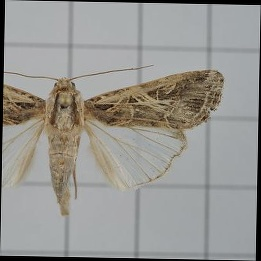Spodoptera litura: (3, 64, 223, 218)
